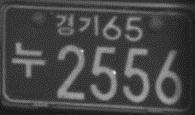2: (54, 42, 85, 99)
5: (121, 47, 150, 104), (89, 46, 118, 102), (124, 15, 142, 42)
6: (154, 50, 182, 106), (102, 14, 121, 41)
경기_O: (54, 13, 98, 37)
누: (11, 41, 46, 78)
